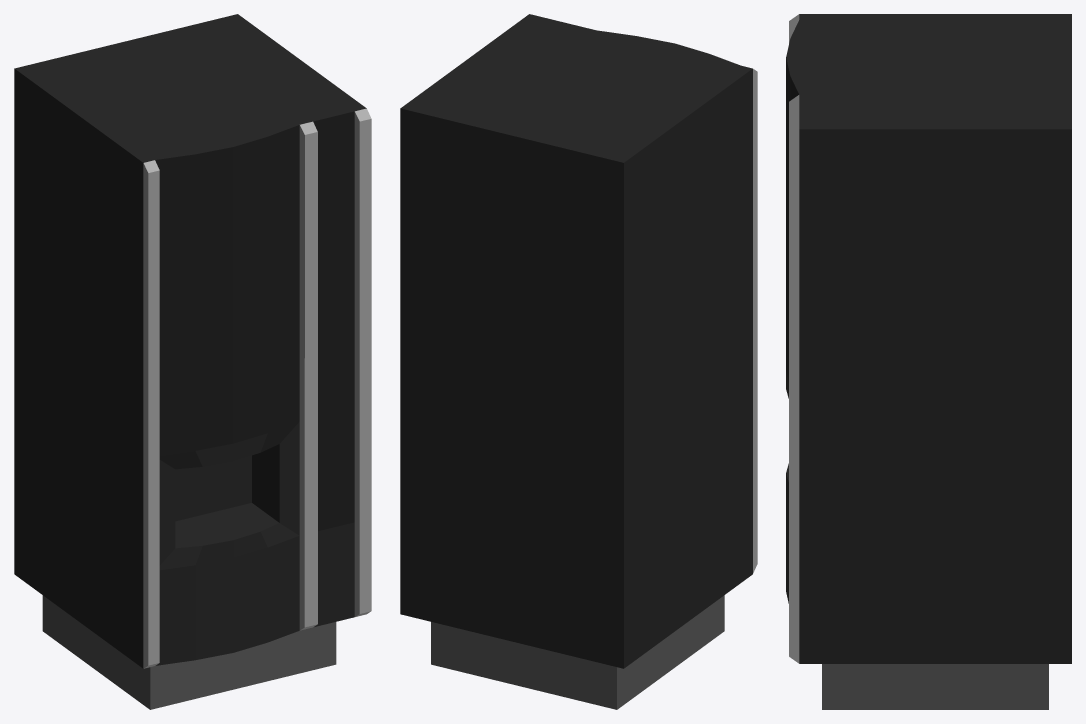
File: CoffeeMachine.fbx
The picture shows the model from 3 angles, left to right: view 1: azimuth 30°, elevation 25°; view 2: azimuth 150°, elevation 25°; view 3: azimuth 270°, elevation 25°; orthographic projection. The views are drawn at different scales.
Parts seen in each view (by area): view 1: Cube.234; view 2: Cube.234; view 3: Cube.234.
Part boxes in pixels (<box>): Cube.234: <box>14,14,371,709</box>; Cube.234: <box>400,14,757,709</box>; Cube.234: <box>786,14,1071,709</box>.
Bounding box in the file's own units: 408 × 976 × 428.
